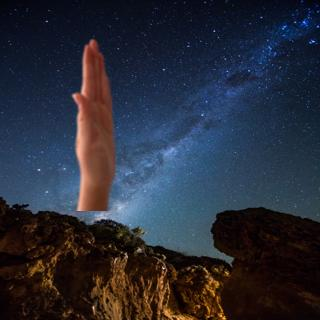Right: (64, 31, 125, 196)
